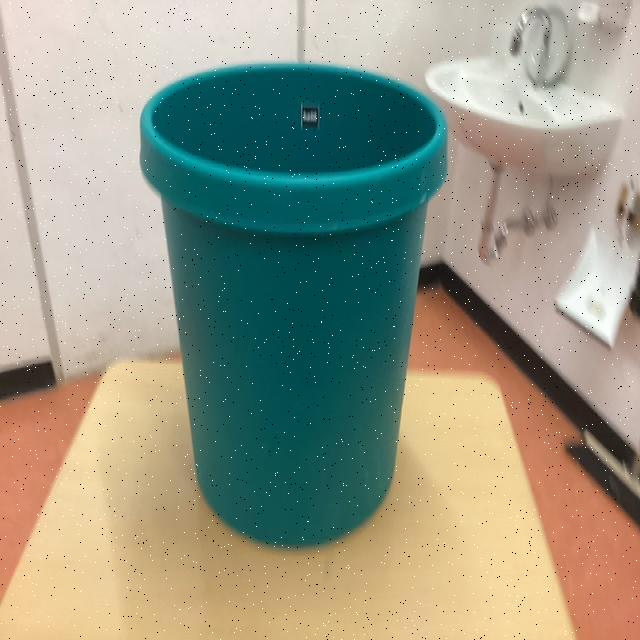garbage container: (127, 30, 456, 572)
